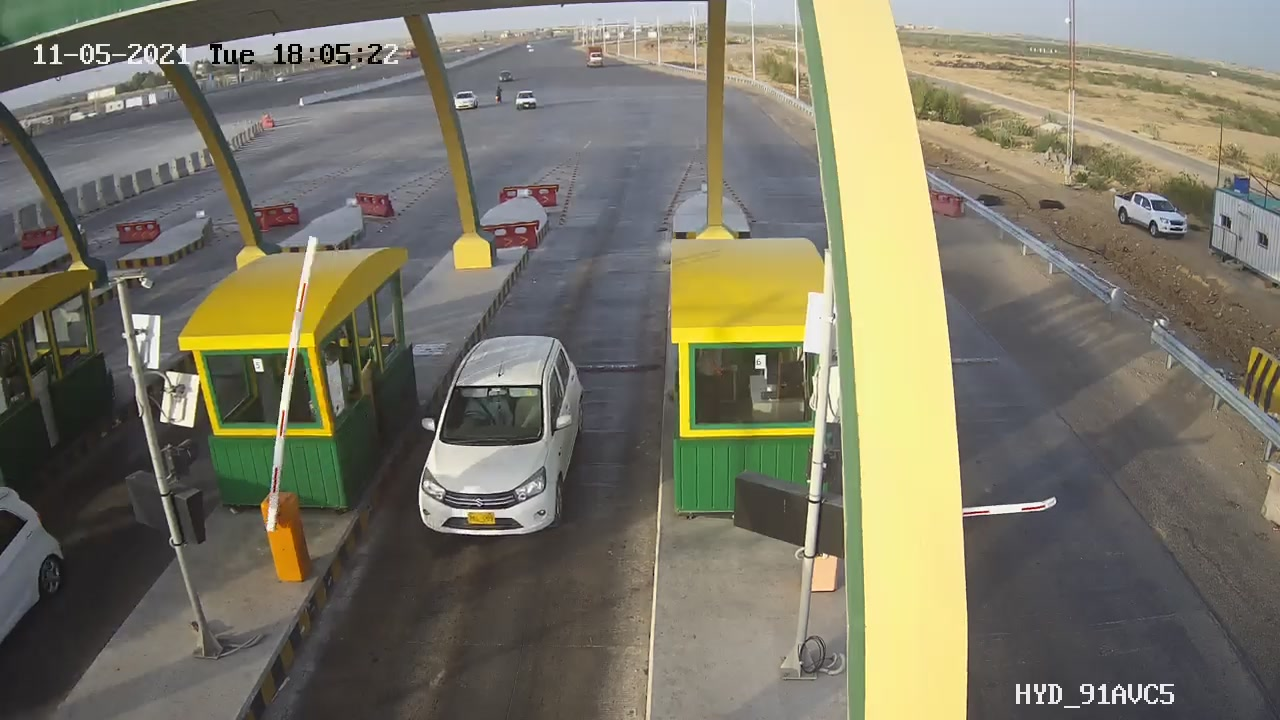F1: (398, 322, 629, 551)
